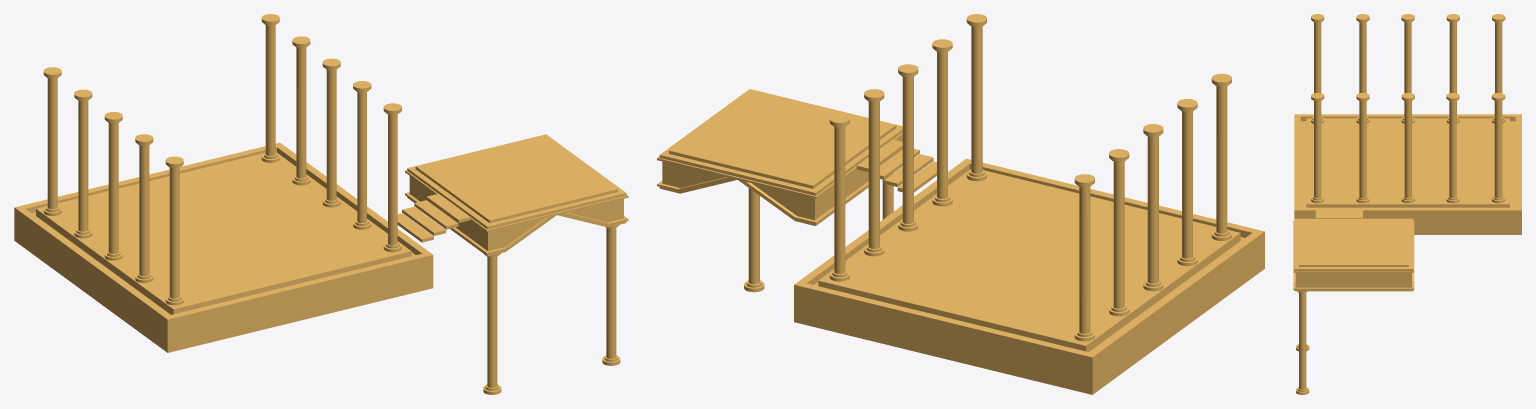
The model's file is OU_AR_Law_01_D.fbx.
3 renders of one model, left to right at view 1: azimuth 30°, elevation 25°; view 2: azimuth 150°, elevation 25°; view 3: azimuth 270°, elevation 25°, orthographic. The views are drawn at different scales.
Parts seen in each view (by area): view 1: OU_AR_Law_01_D; view 2: OU_AR_Law_01_D; view 3: OU_AR_Law_01_D.
Boxes of the visible parts, x1,y1,x2,y2 form: OU_AR_Law_01_D: (14, 14, 628, 394); OU_AR_Law_01_D: (657, 14, 1264, 394); OU_AR_Law_01_D: (1293, 14, 1521, 394).
Bounding box in the file's own units: 2317 × 1436 × 1346.
